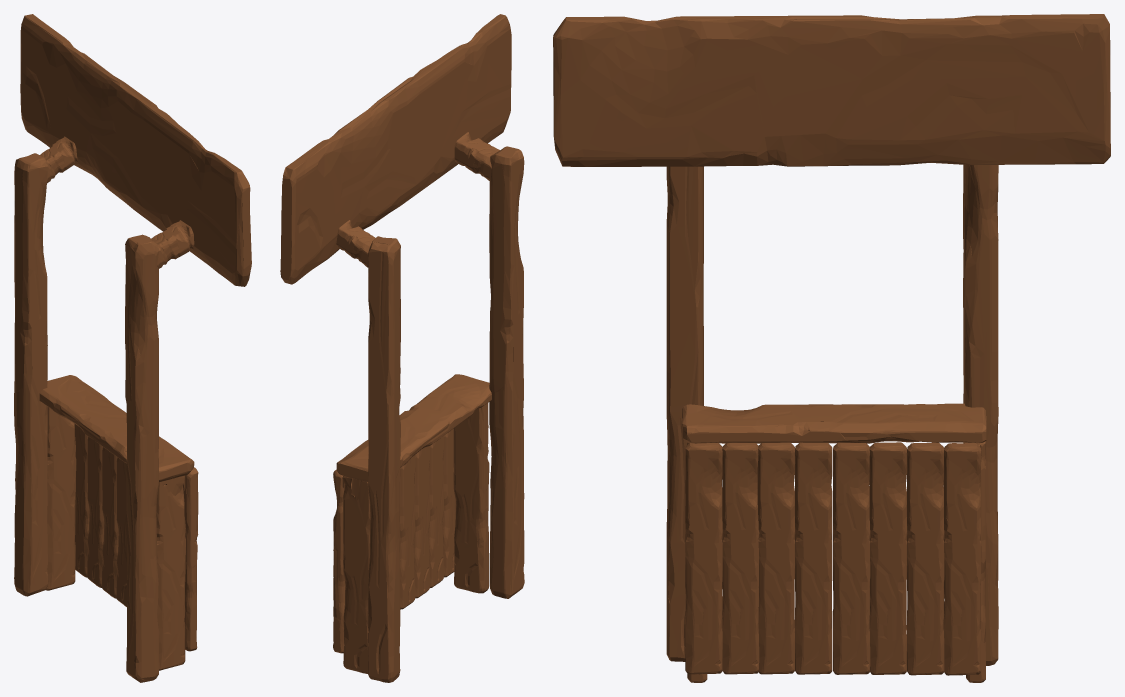
The model's file is Stand 1.fbx.
The picture shows the model from 3 angles, left to right: view 1: azimuth 30°, elevation 25°; view 2: azimuth 150°, elevation 25°; view 3: azimuth 270°, elevation 25°; orthographic projection. The views are drawn at different scales.
Visible parts, largest first — view 1: Stand; view 2: Stand; view 3: Stand.
Part boxes in pixels (x1,y1,x2,y2): Stand: [14, 14, 251, 682]; Stand: [280, 14, 524, 682]; Stand: [553, 14, 1110, 682].
Size of the model in its own units: 136 by 967 by 727.
